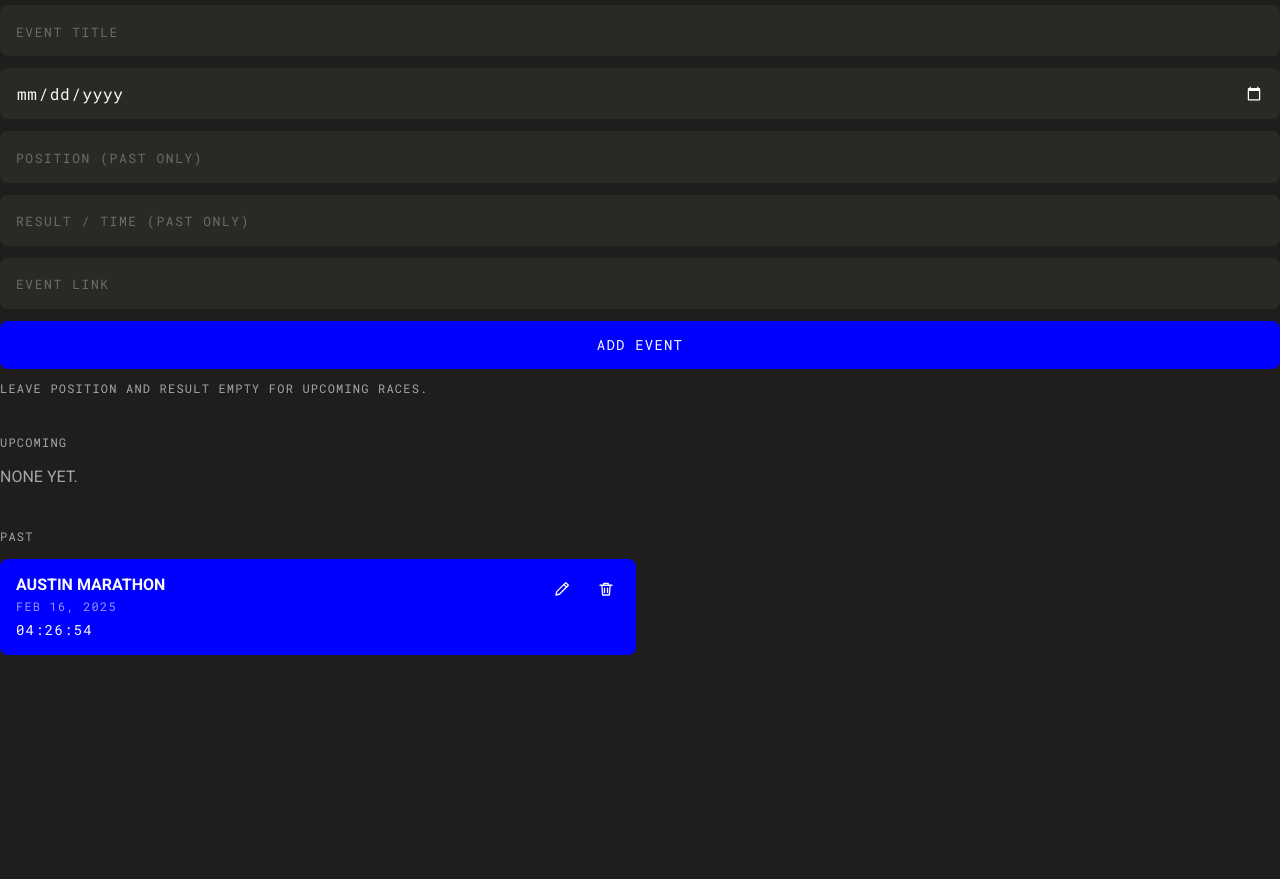
it: EventManager › cancels an edit without saving
What coordinates should you click on to do the following:
click the button named "edit"
I would click on:
 (562, 589)
Its box is [540,567,584,611].
(page scrolled)
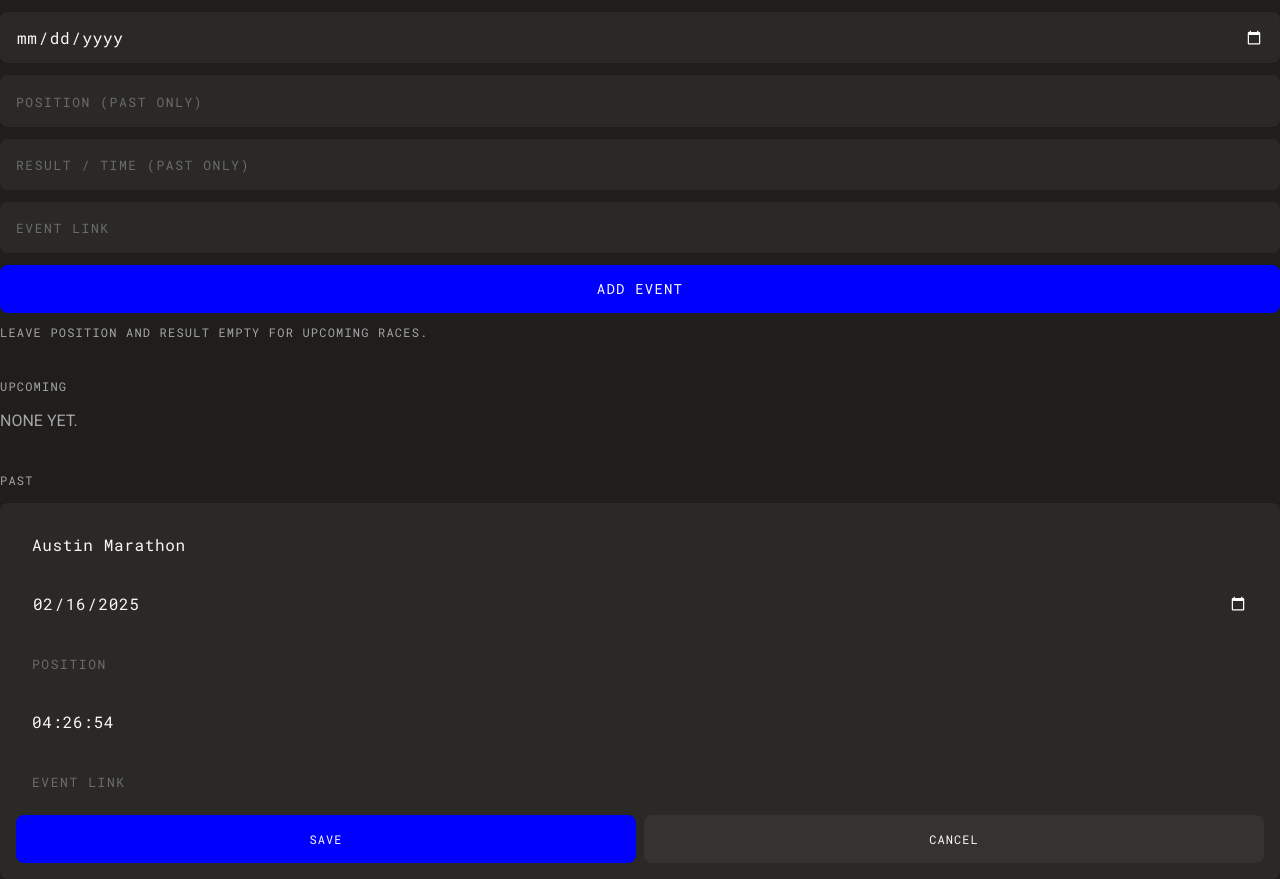
What coordinates should you click on to do the following:
click the button "Cancel"
I would click on:
 (954, 839)
Its box is [644,815,1264,863].
(page scrolled)
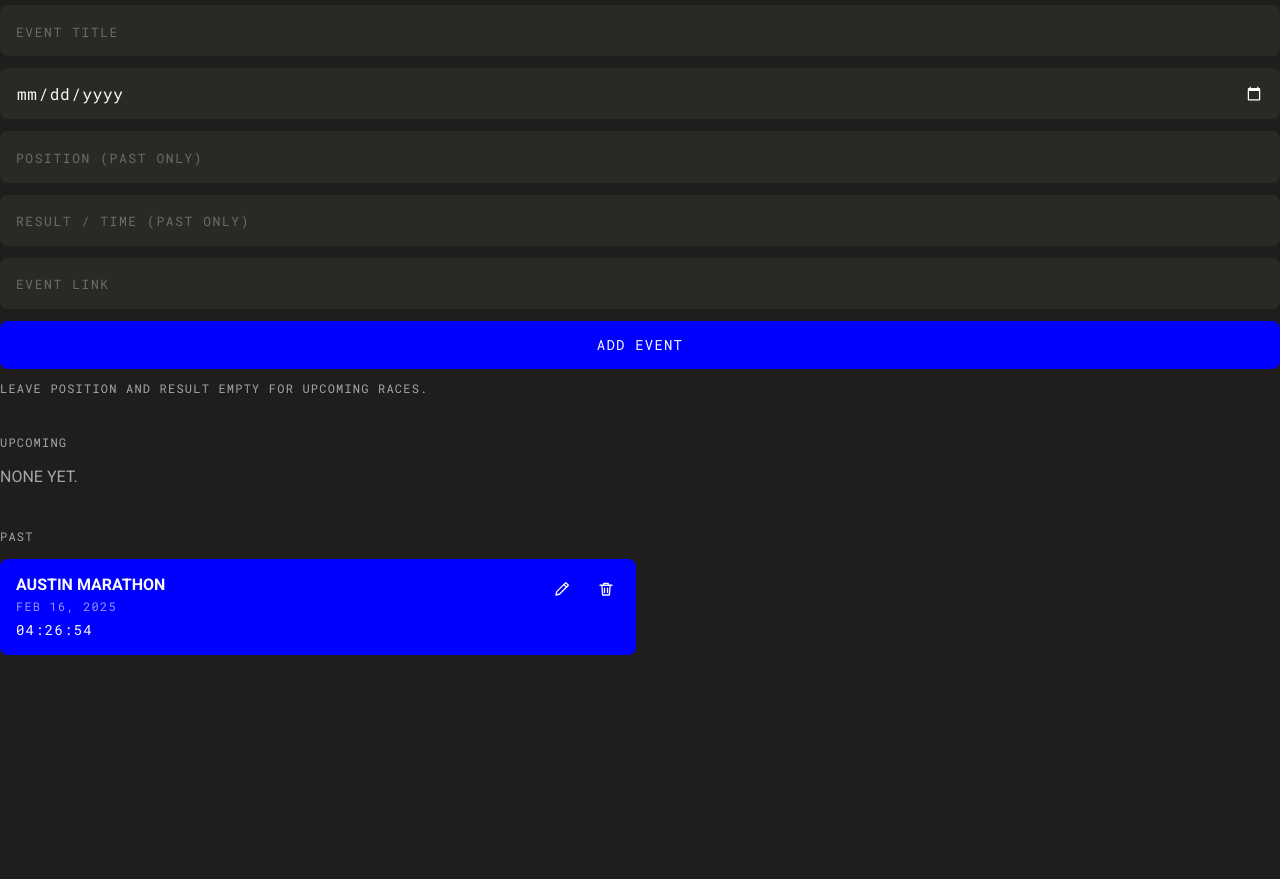
Check: the text "Austin Marathon" is shown, box [16,575,165,594]
